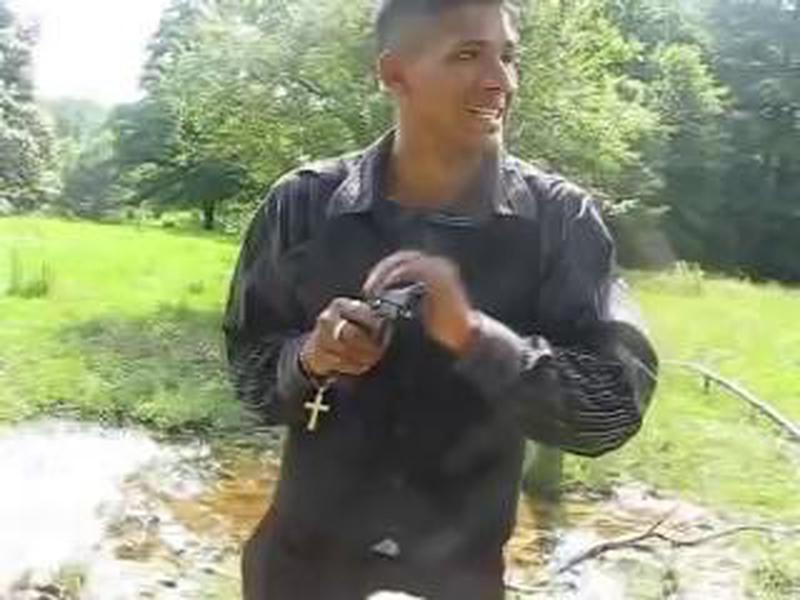Pistola: (331, 264, 439, 359)
